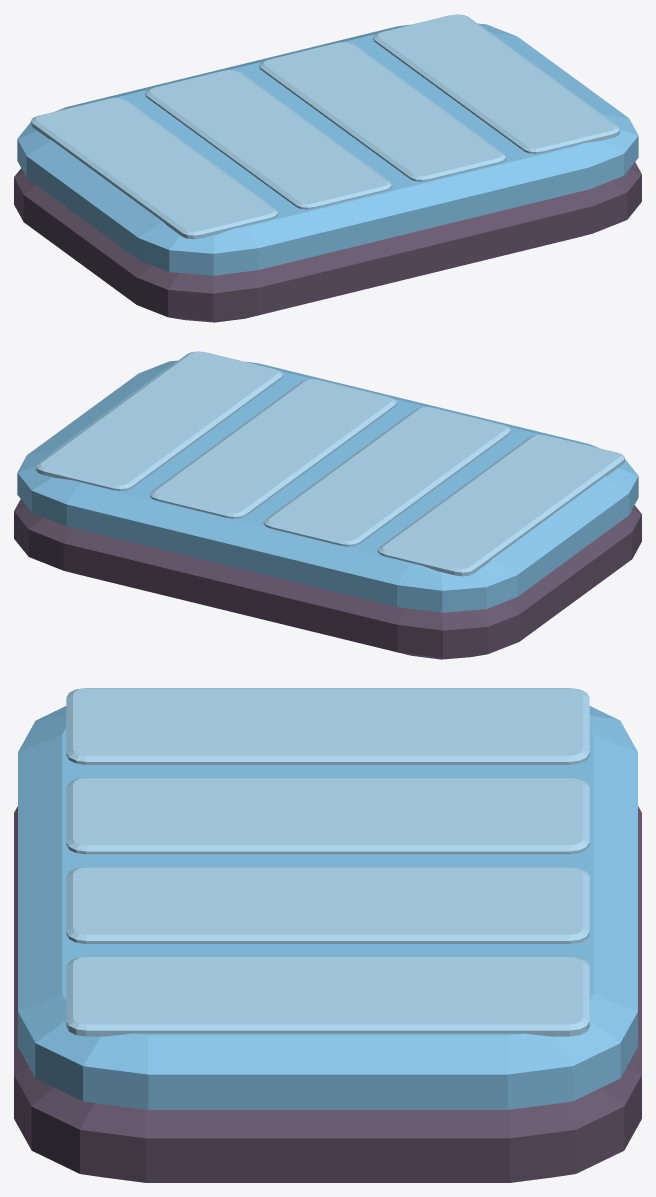
The model's file is loading_dock.glb.
3 views of the same model, one above another, from view 1: azimuth 30°, elevation 25°; view 2: azimuth 150°, elevation 25°; view 3: azimuth 270°, elevation 25° (orthographic). The views are drawn at different scales.
Parts seen in each view (by area): view 1: model; view 2: model; view 3: model.
Boxes of the visible parts, bbox=[...] form: model: bbox=[14, 14, 641, 322]; model: bbox=[14, 351, 641, 659]; model: bbox=[14, 688, 641, 1182].
Bounding box in the file's own units: 2.2 × 0.4 × 1.5.
